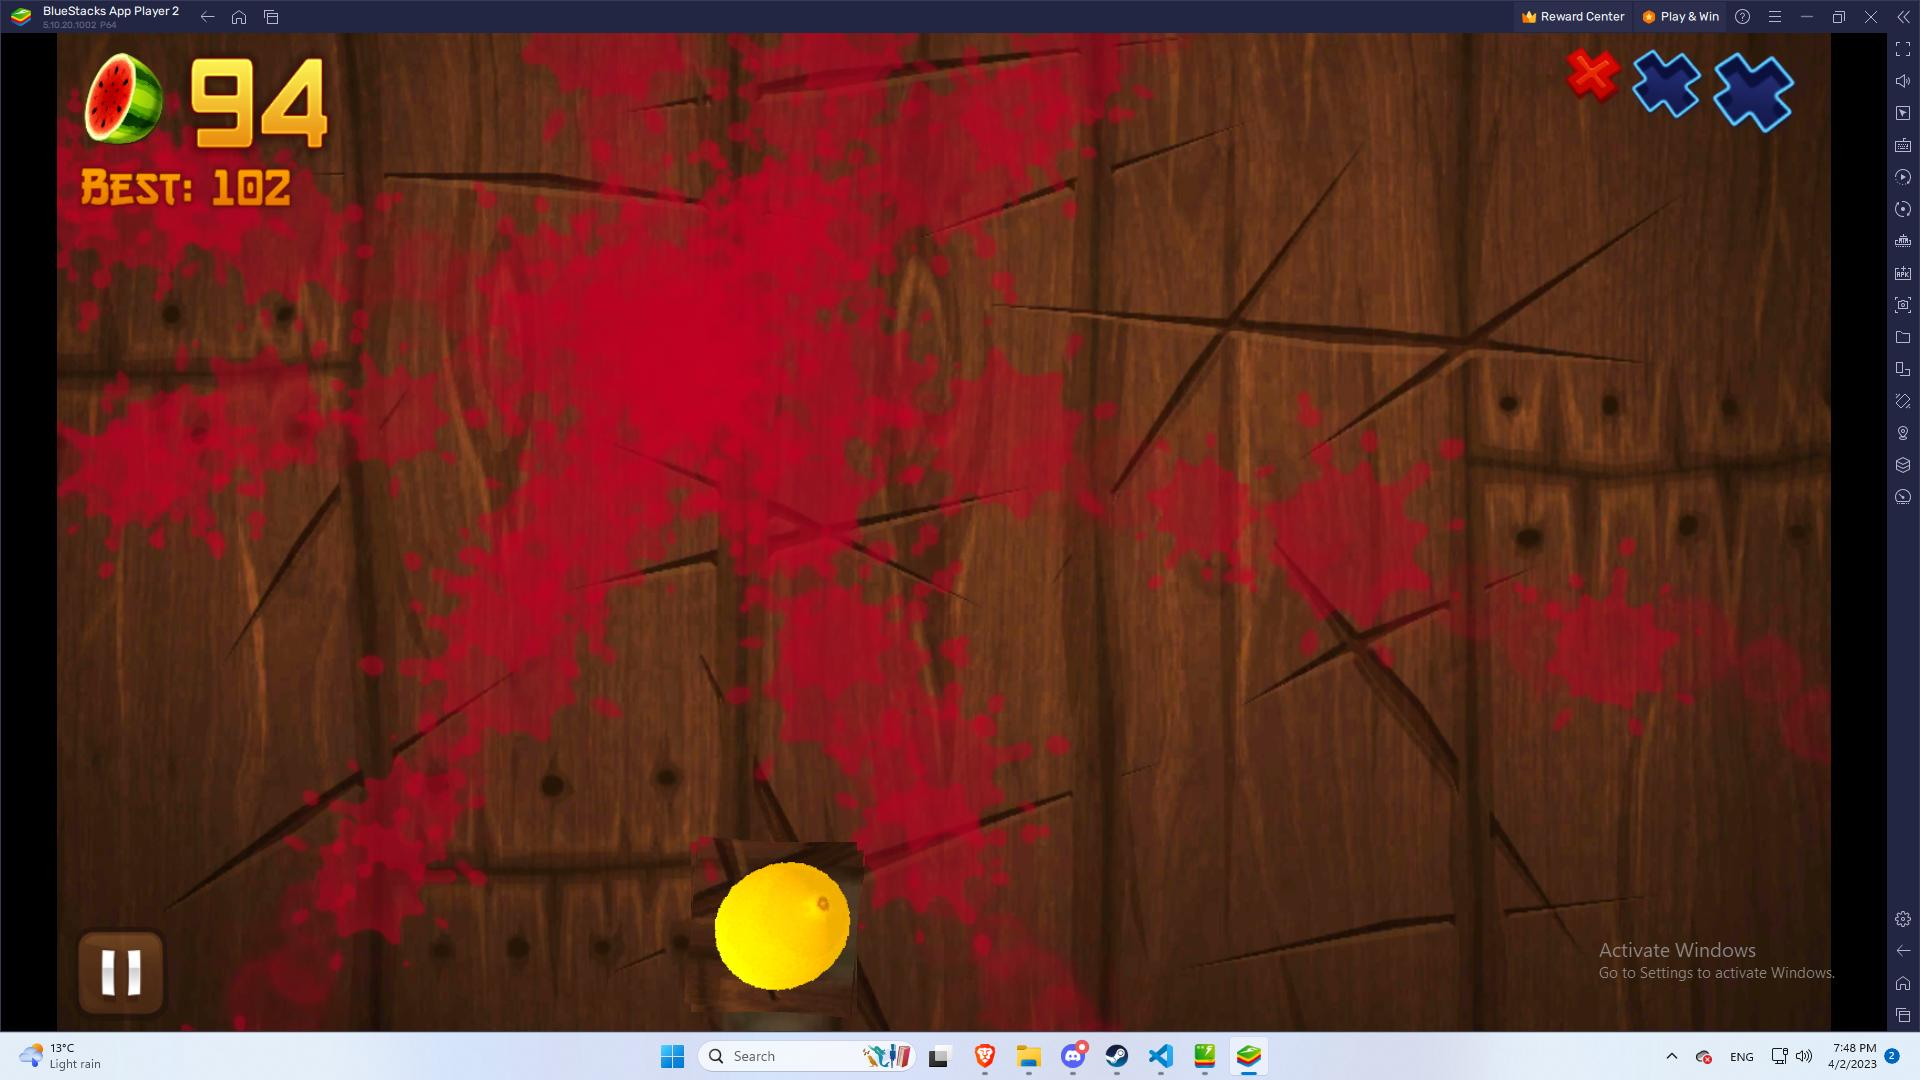fruit: (687, 840, 862, 1015)
